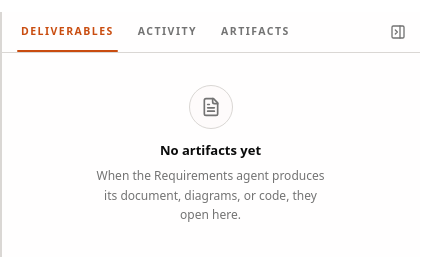
it: the project artifacts tab › says who approved a document and offers the one authorised download
The width and height of the screenshot is (437, 274).
Click the tab "Artifacts" at [255, 32], box [209,12,302,52]
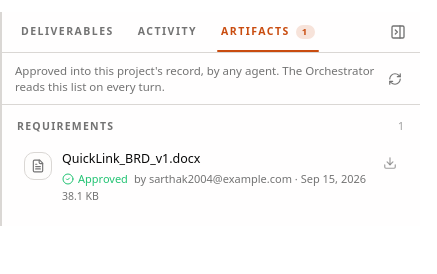
Now the text "QuickLink_BRD_v1.docx" is shown, box [62,150,200,167]
